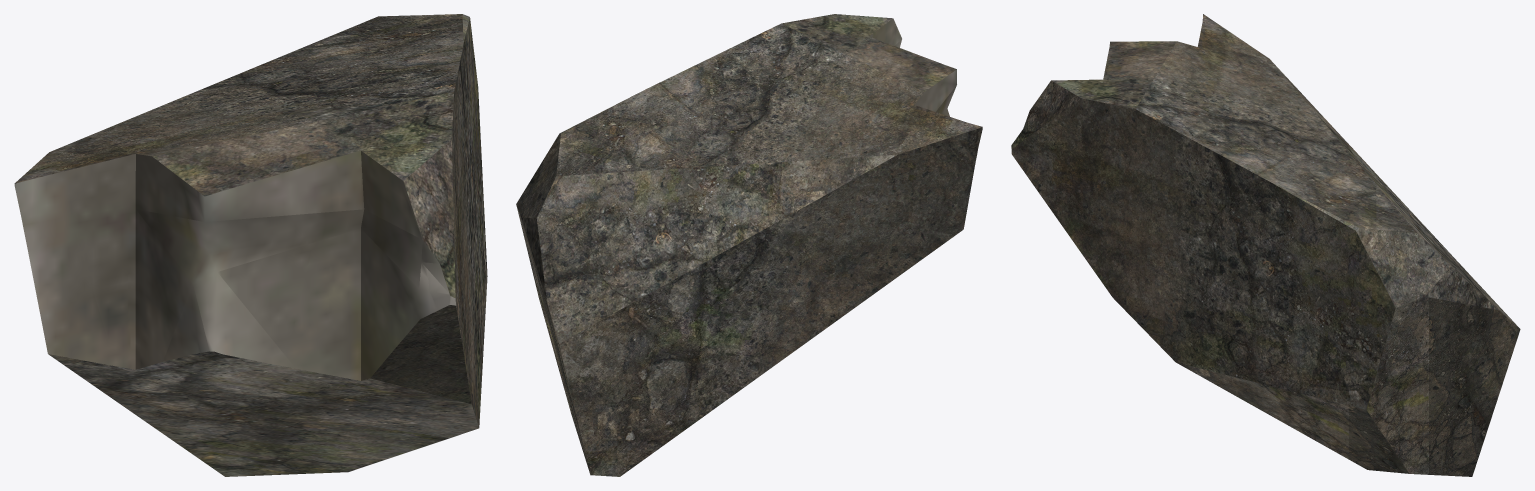
File: ColumnDamage08_32.fbx
3 renders of one model, left to right at view 1: azimuth 30°, elevation 25°; view 2: azimuth 150°, elevation 25°; view 3: azimuth 270°, elevation 25°, orthographic. The views are drawn at different scales.
Visible parts, largest first — view 1: ColumnDamage08_DM.032; view 2: ColumnDamage08_DM.032; view 3: ColumnDamage08_DM.032.
Boxes of the visible parts, bbox=[...] form: ColumnDamage08_DM.032: bbox=[14, 14, 487, 476]; ColumnDamage08_DM.032: bbox=[516, 14, 982, 476]; ColumnDamage08_DM.032: bbox=[1011, 14, 1520, 476].
Bounding box in the file's own units: 147 × 131 × 167.
2 materials, 2 textured.
